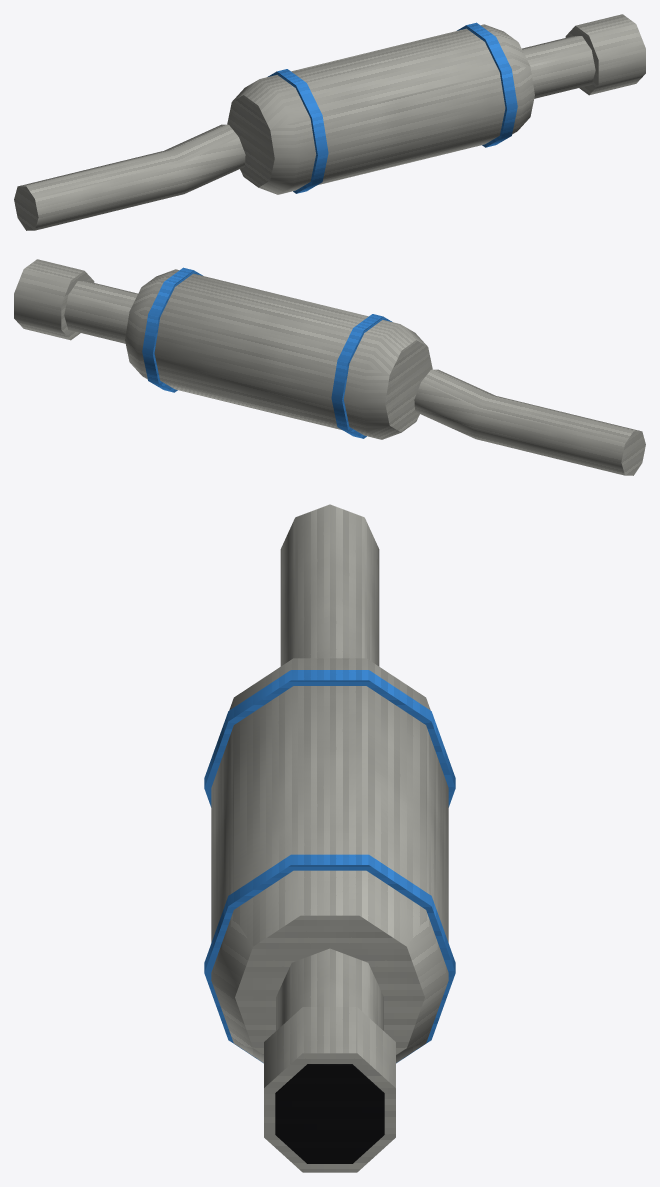
File: escape_n2.glb
3 views of the same model, one above another, from view 1: azimuth 30°, elevation 25°; view 2: azimuth 150°, elevation 25°; view 3: azimuth 270°, elevation 25° (orthographic). The views are drawn at different scales.
Parts seen in each view (by area): view 1: escape_n2; view 2: escape_n2; view 3: escape_n2.
Part boxes in pixels (x1,y1,x2,y2): escape_n2: (14,14,645,230); escape_n2: (14,259,645,475); escape_n2: (204,504,455,1172).
Size of the model in its own units: 1.02 by 0.175 by 0.184.
Materials: 1 (1 with a texture image).
